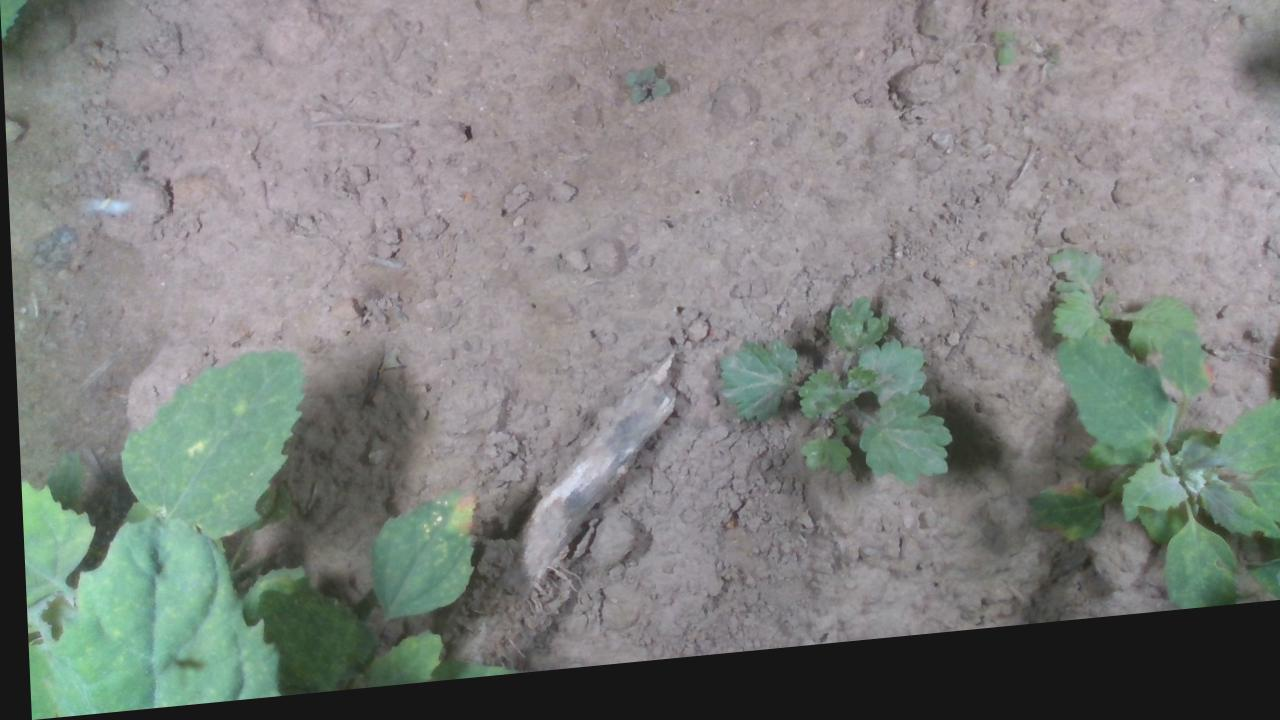weed: (618, 75, 669, 121), (988, 43, 1020, 90)
